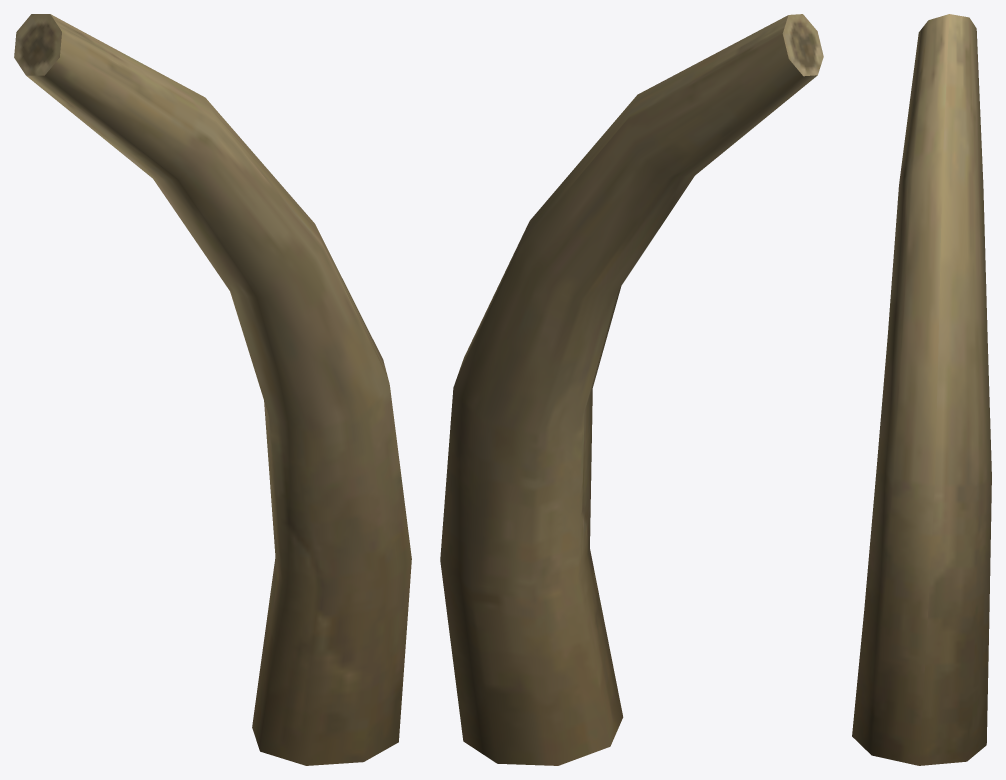
The model's file is environment_common_longgu_001_g.FBX.
3 views of the same model, side by side, from view 1: azimuth 30°, elevation 25°; view 2: azimuth 150°, elevation 25°; view 3: azimuth 270°, elevation 25° (orthographic). The views are drawn at different scales.
Visible parts, largest first — view 1: environment_common_longgu_001_g; view 2: environment_common_longgu_001_g; view 3: environment_common_longgu_001_g.
Part boxes in pixels (x1,y1,x2,y2): environment_common_longgu_001_g: [14, 14, 411, 765]; environment_common_longgu_001_g: [440, 14, 823, 765]; environment_common_longgu_001_g: [852, 14, 991, 765].
Size of the model in its own units: 60.31 by 121 by 24.53.
